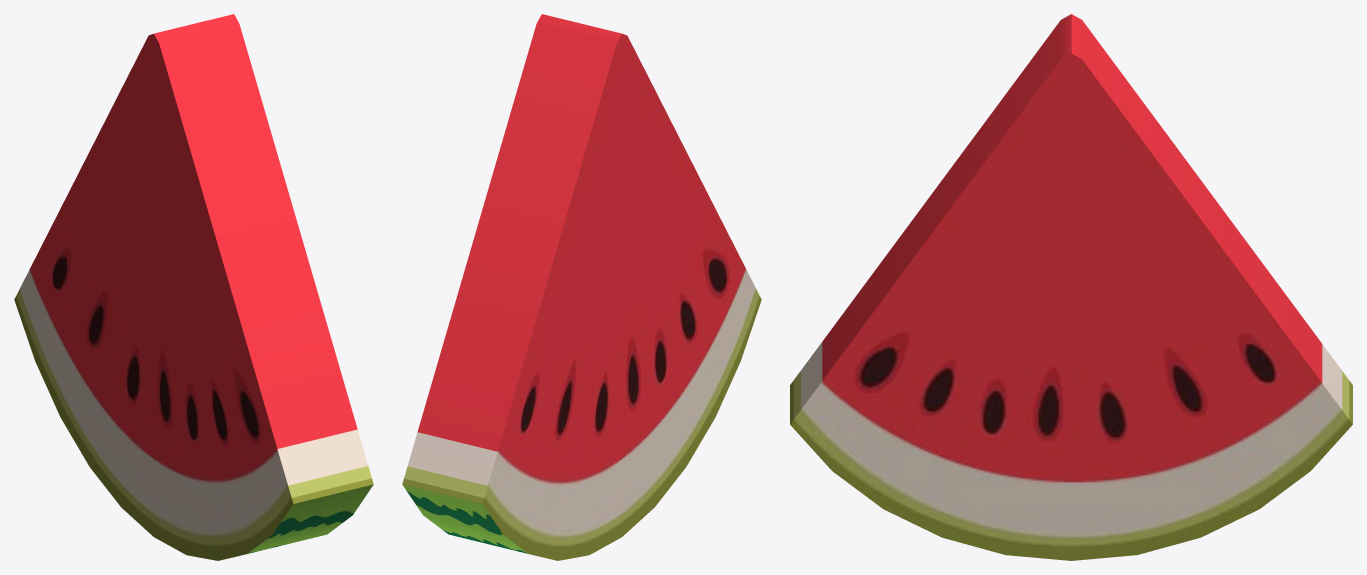
The model's file is watermelon.fbx.
3 renders of one model, left to right at view 1: azimuth 30°, elevation 25°; view 2: azimuth 150°, elevation 25°; view 3: azimuth 270°, elevation 25°, orthographic.
Parts seen in each view (by area): view 1: Cylinder; view 2: Cylinder; view 3: Cylinder.
Part boxes in pixels (box(x1,y1,x2,y2)): Cylinder: box(14, 14, 373, 560); Cylinder: box(402, 14, 761, 560); Cylinder: box(790, 14, 1352, 560).
Size of the model in its own units: 27.61 by 165 by 166.
Materials: 1 (1 with a texture image).
